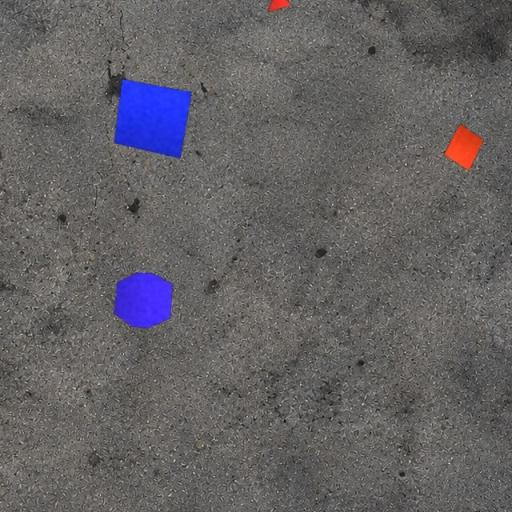BLUE_SQUARE: (114, 78, 192, 159)
RED_SQUARE: (443, 123, 485, 171)
